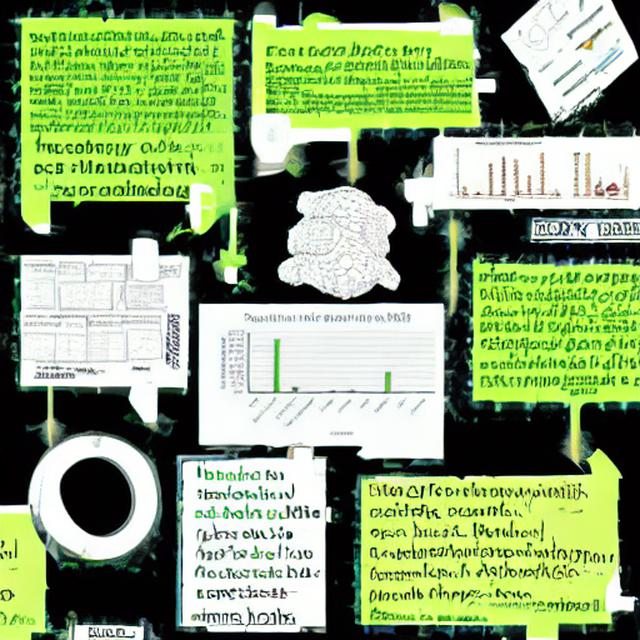Graph: (213, 305, 441, 443), (452, 140, 565, 207), (54, 280, 110, 313)
